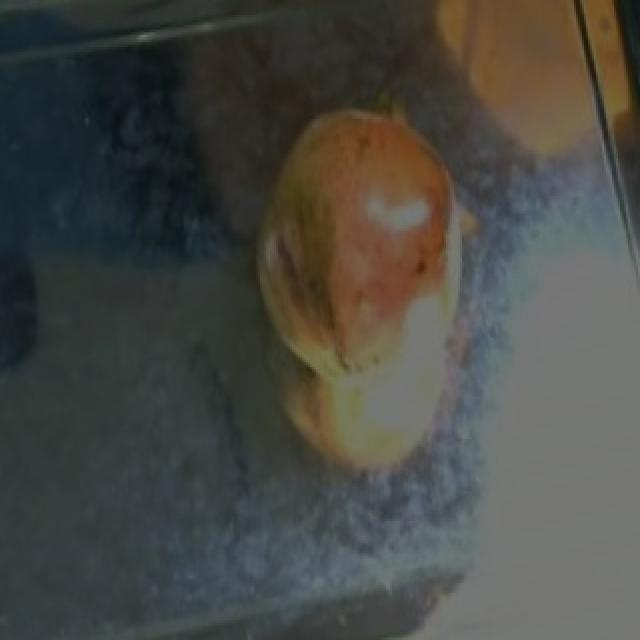fruit: (234, 85, 486, 312)
